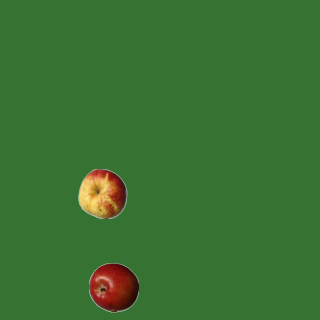Apple Braeburn: (88, 262, 138, 312)
Apple Red Yellow 1: (77, 168, 127, 218)
